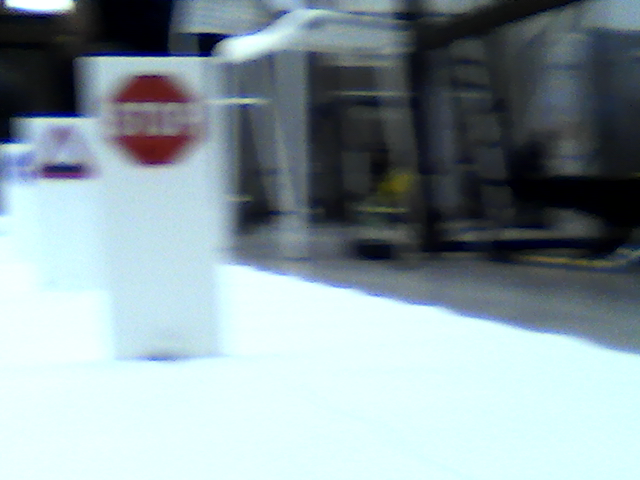Stop: (112, 71, 198, 165)
